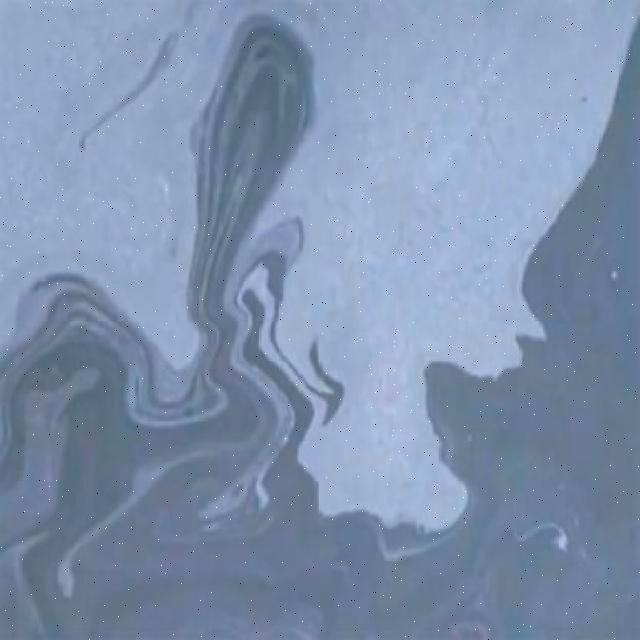oil: (1, 0, 640, 568)
